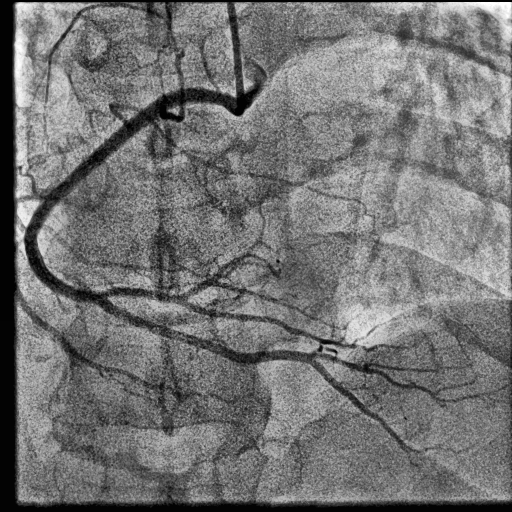pborca: (103, 254, 252, 303)
pda: (96, 299, 411, 454)
rca: (24, 87, 236, 304)
